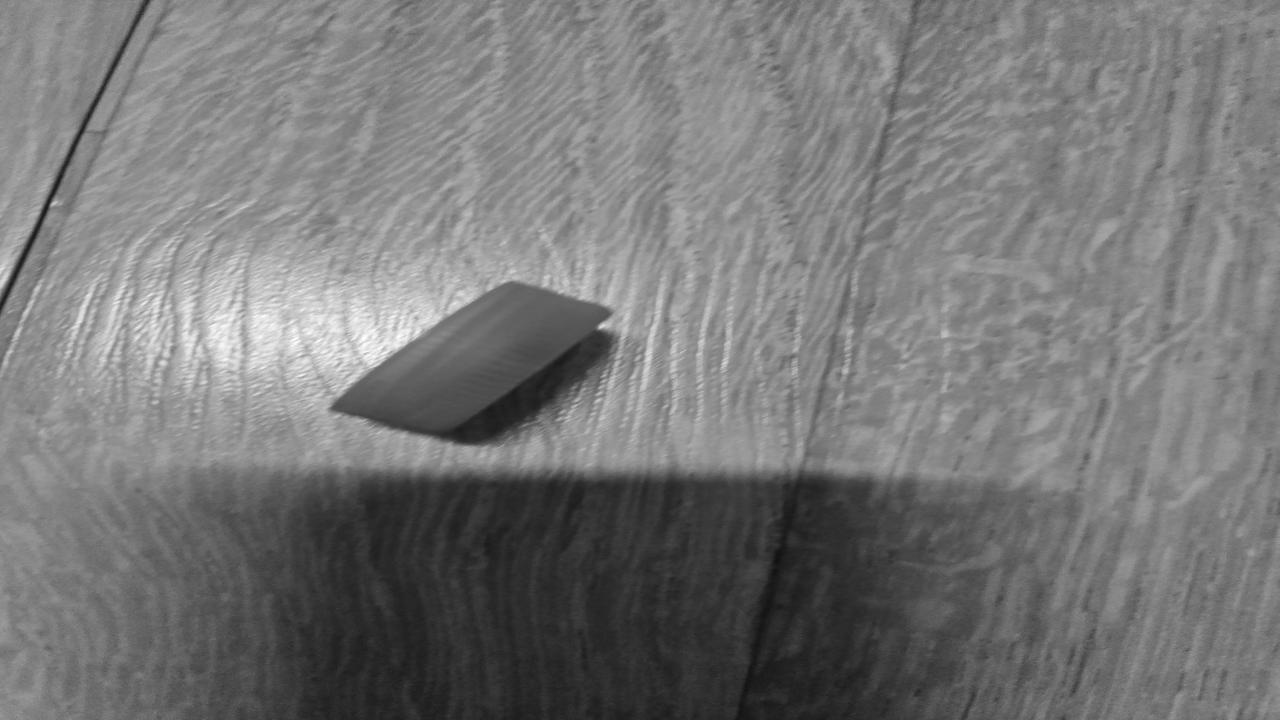bottle_cap: (313, 278, 627, 443)
